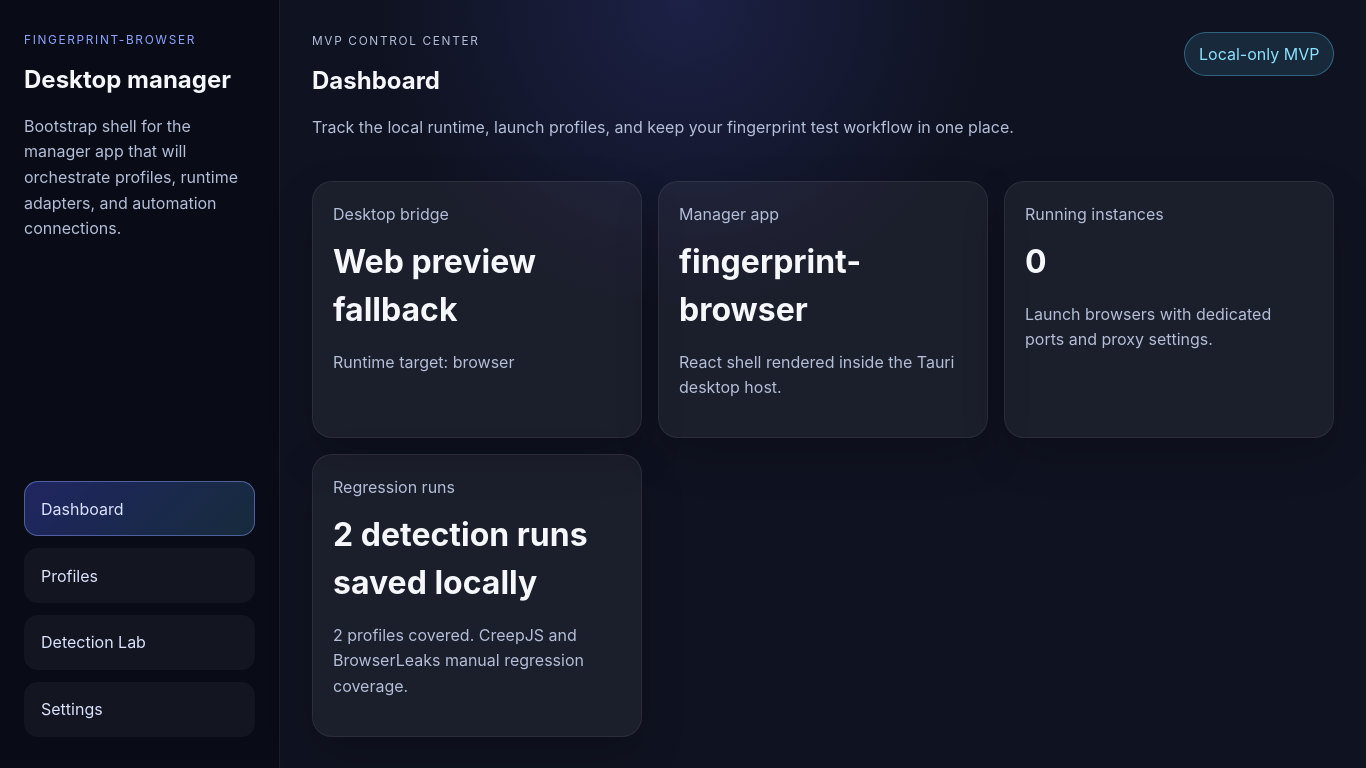
Test: App shell › shows regression coverage on the dashboard and switches between the main sections
Expected: the text "Web preview fallback" is shown, [333, 242, 536, 328]
Expected: the heading "Dashboard" is shown, [312, 66, 440, 95]
Click the link "Profiles".
click(140, 576)  # box [24, 548, 255, 603]
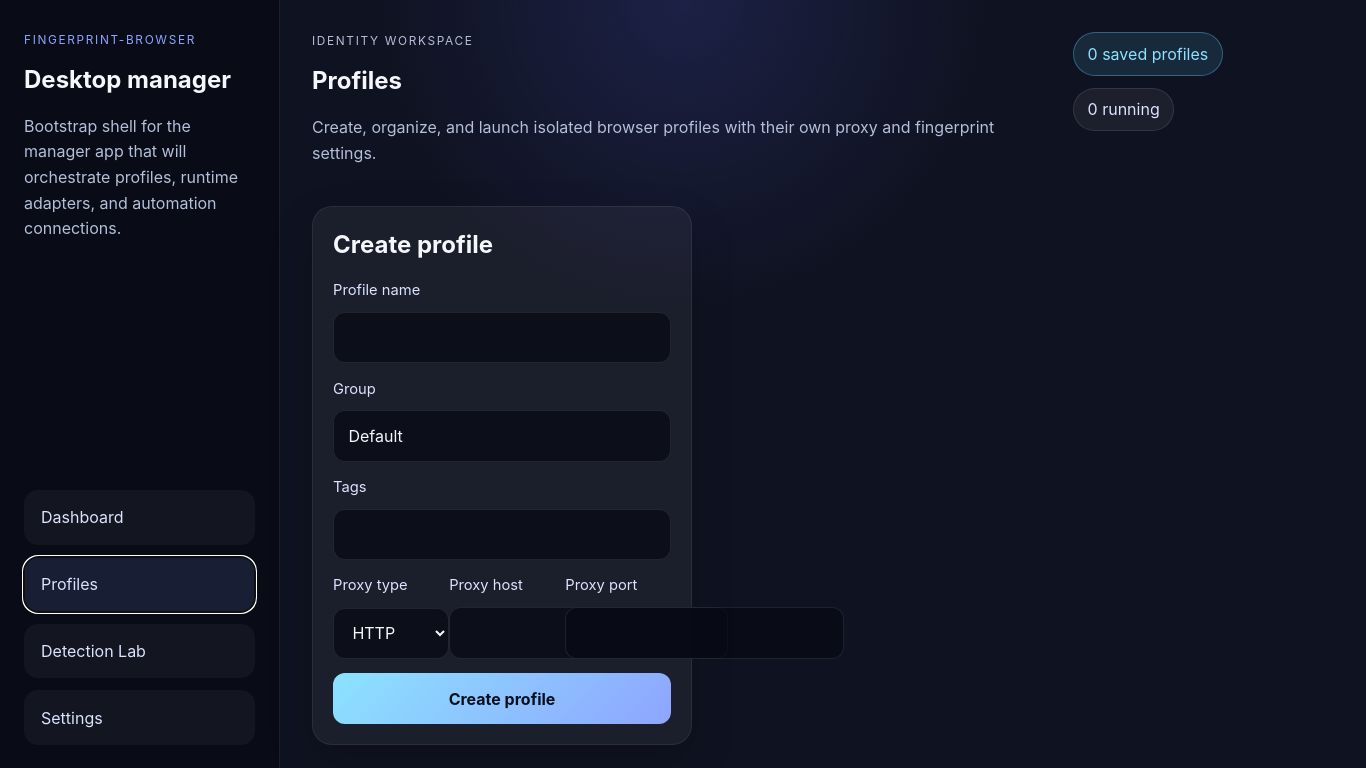
Result: the heading "Profiles" is shown at [312, 66, 402, 95]
Result: the text "Create, organize, and launch isolated browser profiles" is shown at [312, 117, 994, 162]
Click the link "Detection Lab".
click(140, 651)  # box [24, 624, 255, 678]
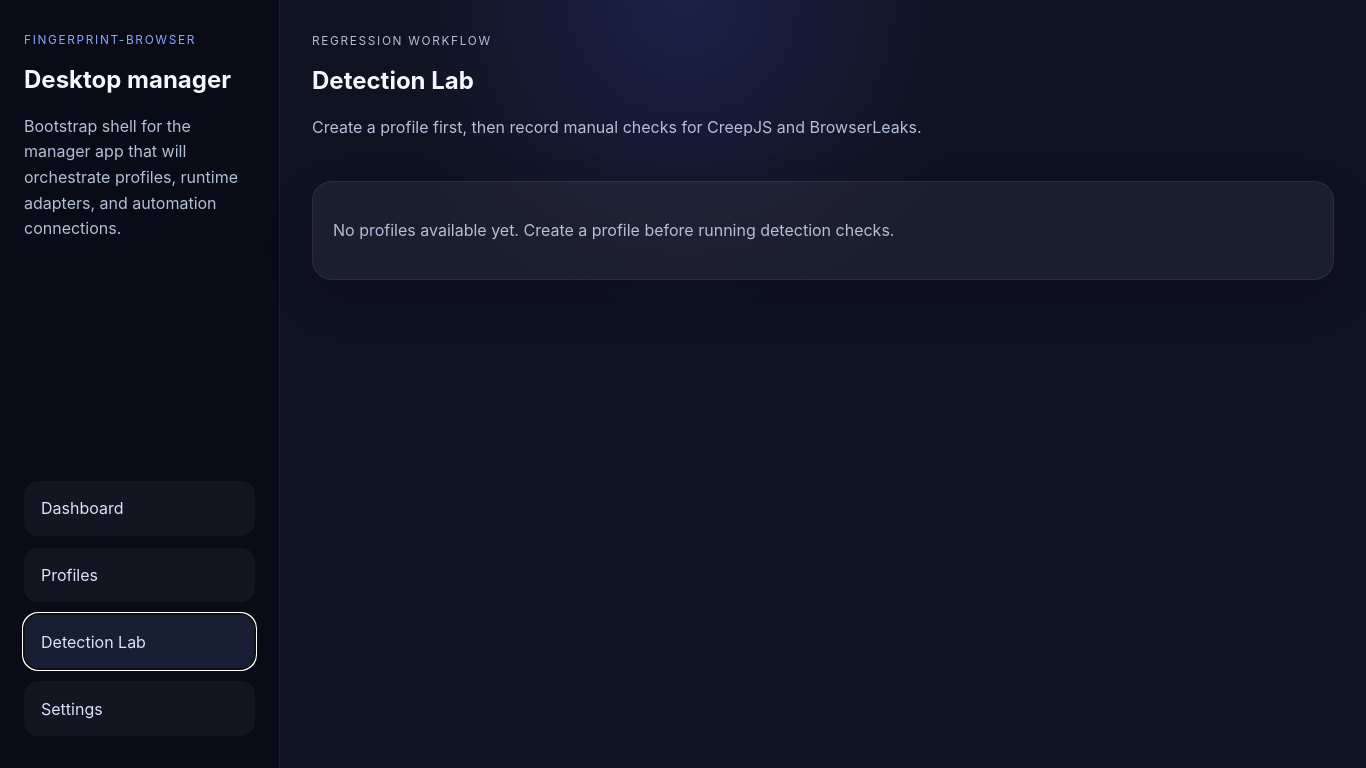
Result: the heading "Detection Lab" is shown at [312, 66, 474, 95]
Result: the text "Create a profile first" is shown at [312, 117, 922, 137]
Click the link "Settings".
click(140, 709)  # box [24, 681, 255, 736]
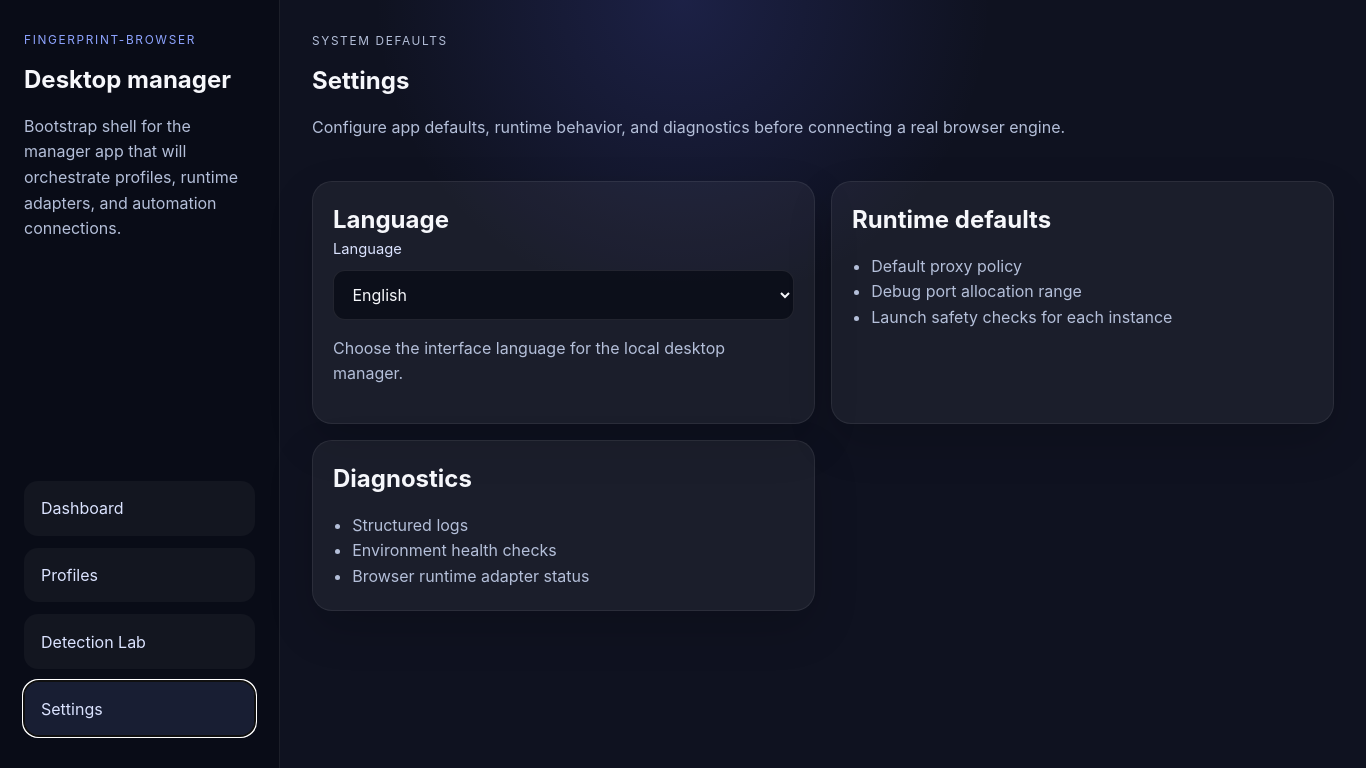
Result: the heading "Settings" is shown at [312, 66, 409, 95]
Result: the text "Configure app defaults, runtime behavior, and diagnostics" is shown at [312, 117, 1065, 137]
